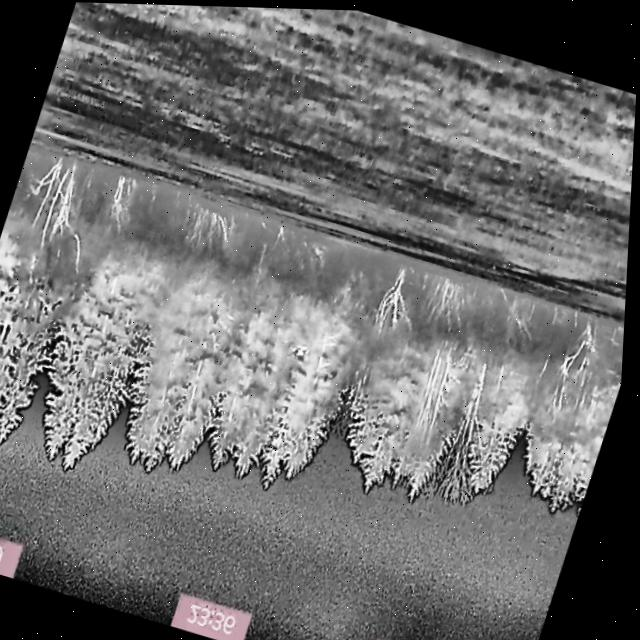drone: (293, 337, 315, 357)
